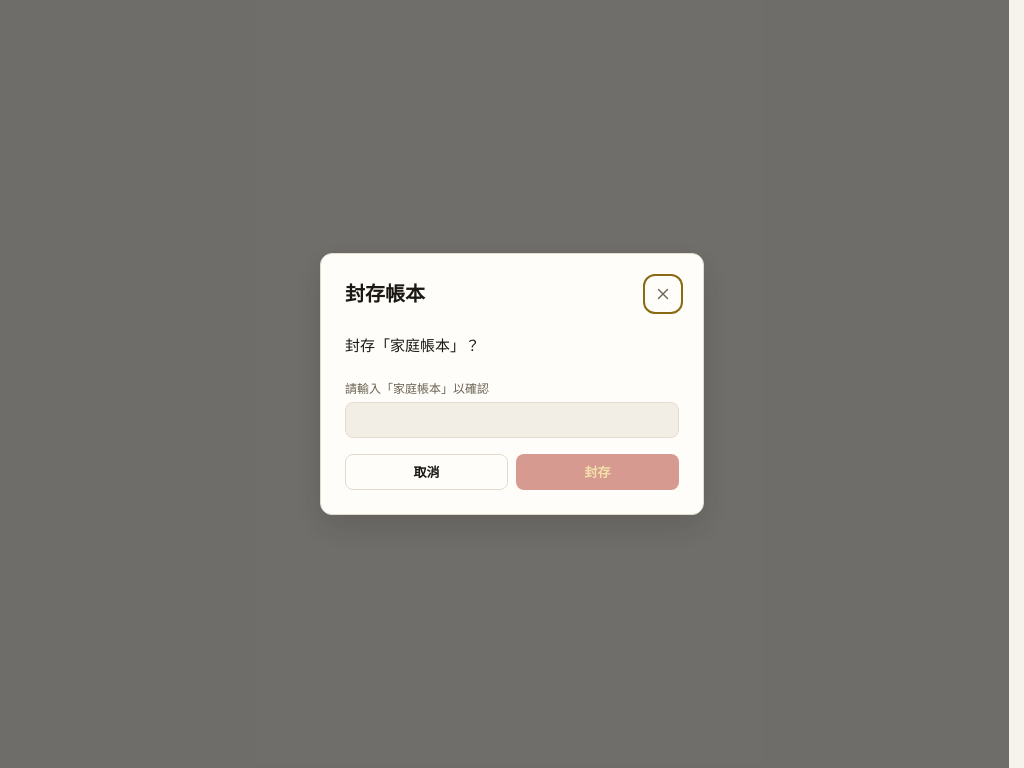
Test: ConfirmDialog › keeps the confirm button disabled until the text matches exactly
Expected: the button "封存" is disabled, [516,454,679,490]
Note: 打得不完整不算數——這正是這個欄位要擋下的情況。
Type "家庭" into the field labelled "請輸入「家庭帳本」以確認". click: (512, 420)
box: [345,402,679,438]
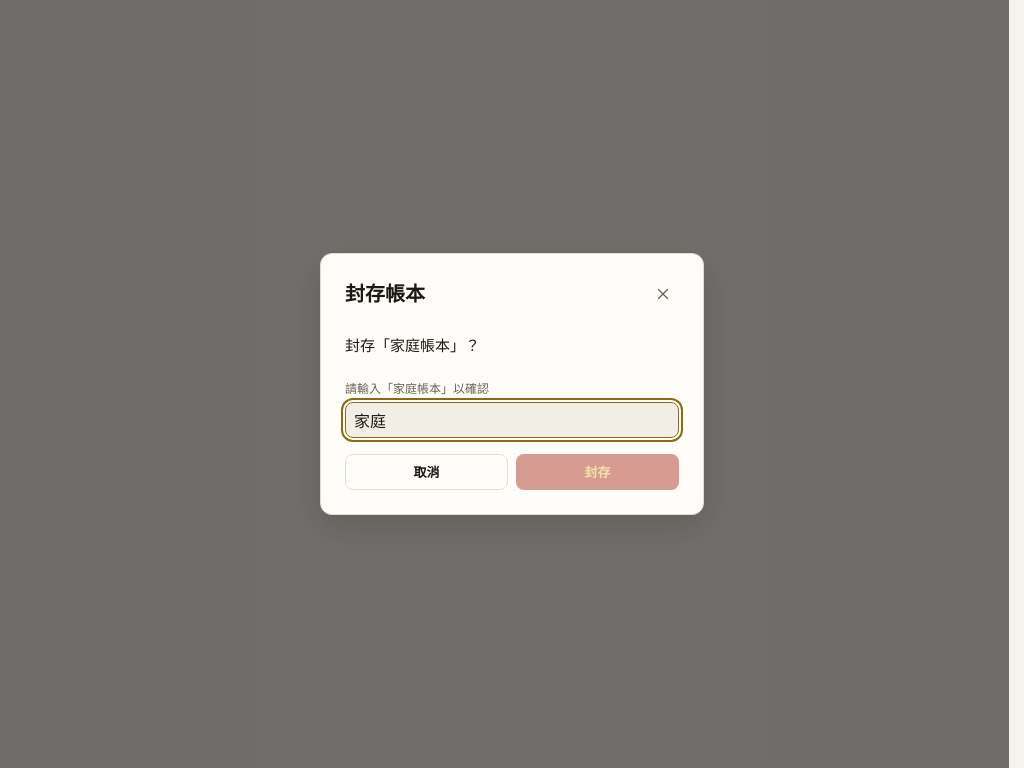
Expected: the button "封存" is disabled, [516,454,679,490]
Type "帳本" into the field labelled "請輸入「家庭帳本」以確認". click: (512, 420)
box: [345,402,679,438]
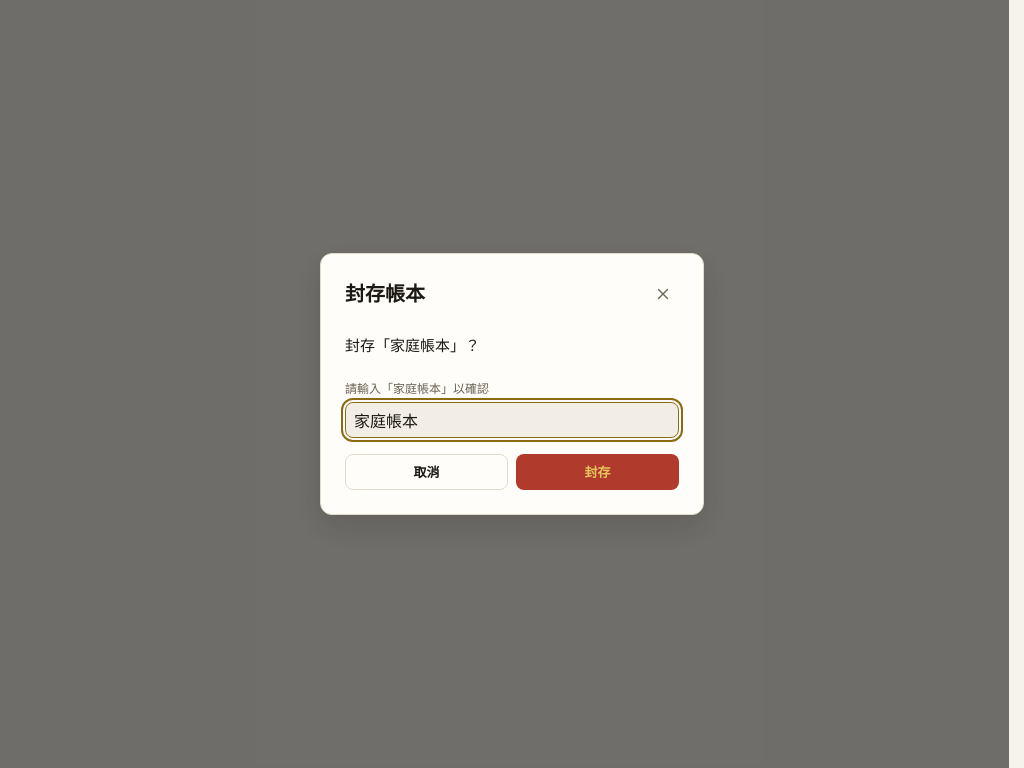
Expected: the button "封存" is enabled, [516,454,679,490]
